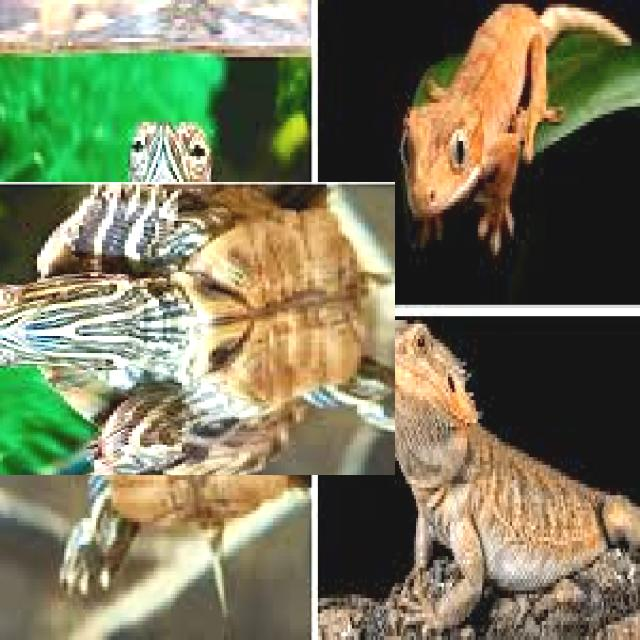Sea turtle: (0, 140, 354, 515)
